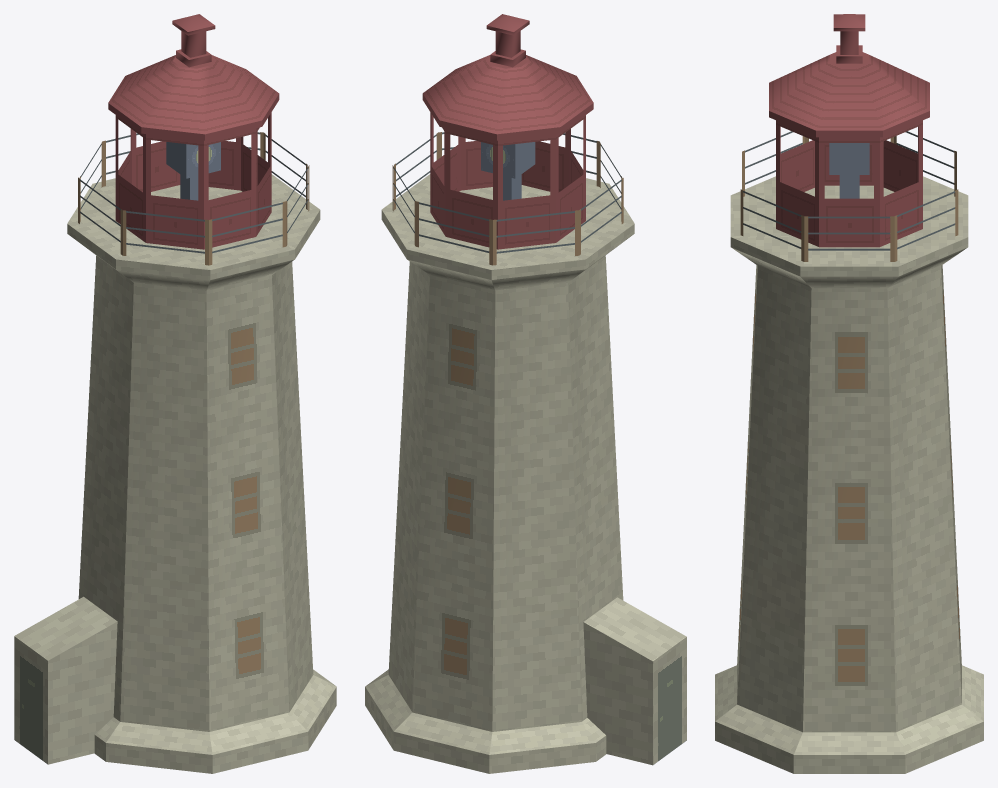
The model's file is 04f0_Lighthouse.glb.
The picture shows the model from 3 angles, left to right: view 1: azimuth 30°, elevation 25°; view 2: azimuth 150°, elevation 25°; view 3: azimuth 270°, elevation 25°; orthographic projection.
Parts seen in each view (by area): view 1: part_0; view 2: part_0; view 3: part_0.
Boxes of the visible parts, <box> form: part_0: <box>14,14,336,773</box>; part_0: <box>365,14,686,773</box>; part_0: <box>715,14,983,773</box>.
Size of the model in its own units: 6.08 by 14.61 by 5.06.
1 material, 1 textured.
